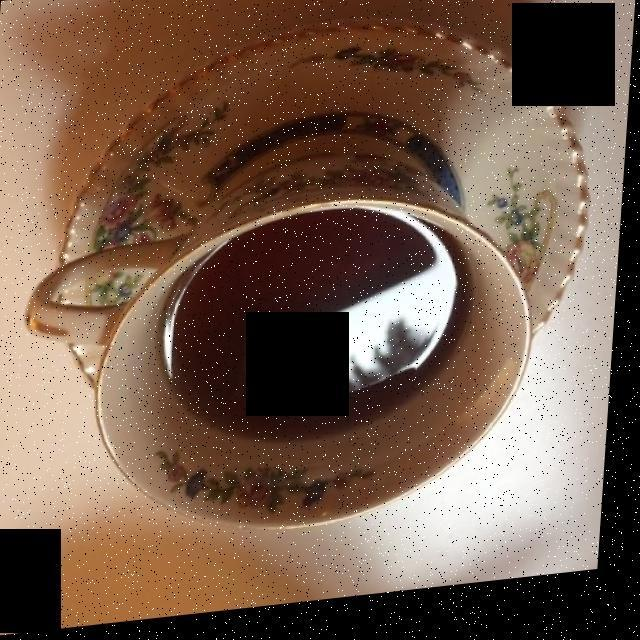tea: (177, 219, 452, 435)
